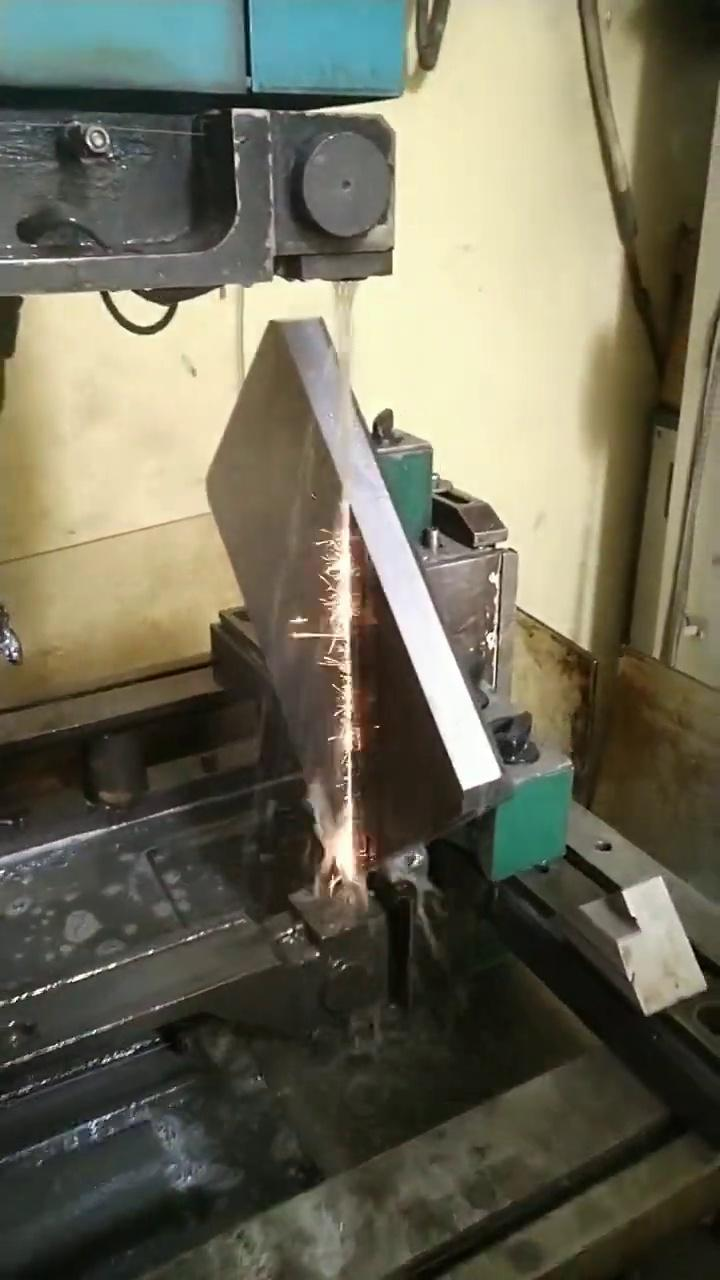fire: (246, 395, 470, 945)
